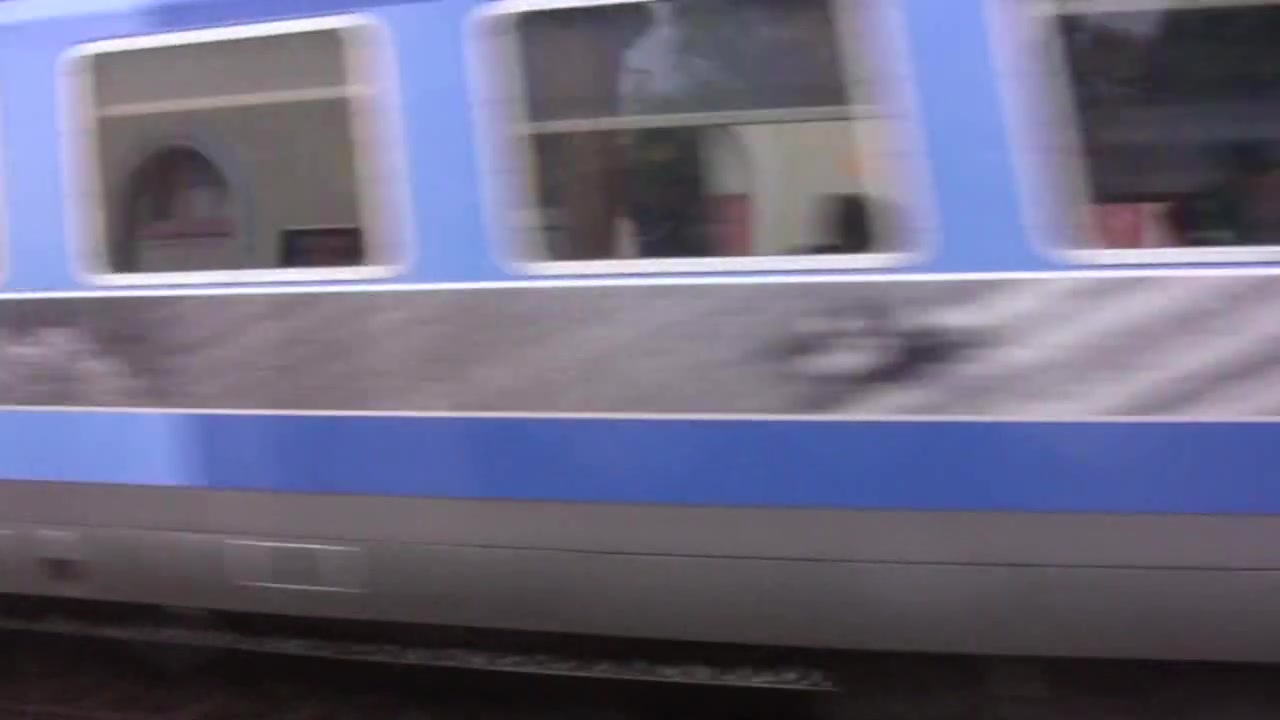train: (1, 1, 1280, 687)
